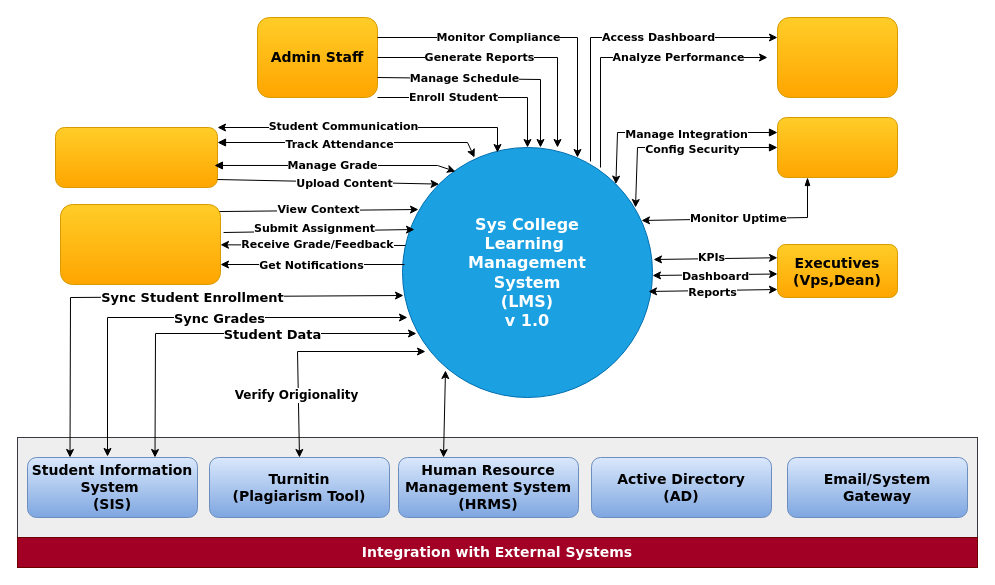
Image size: 995x585. Some labels were removed from this diagram. Each missing label, with the centre of its shape:
"Department Heads" goes at (837,57).
"Faculty (Lecturers)" goes at (136,157).
"IT Department" goes at (837,147).
"Students" goes at (140,244).
